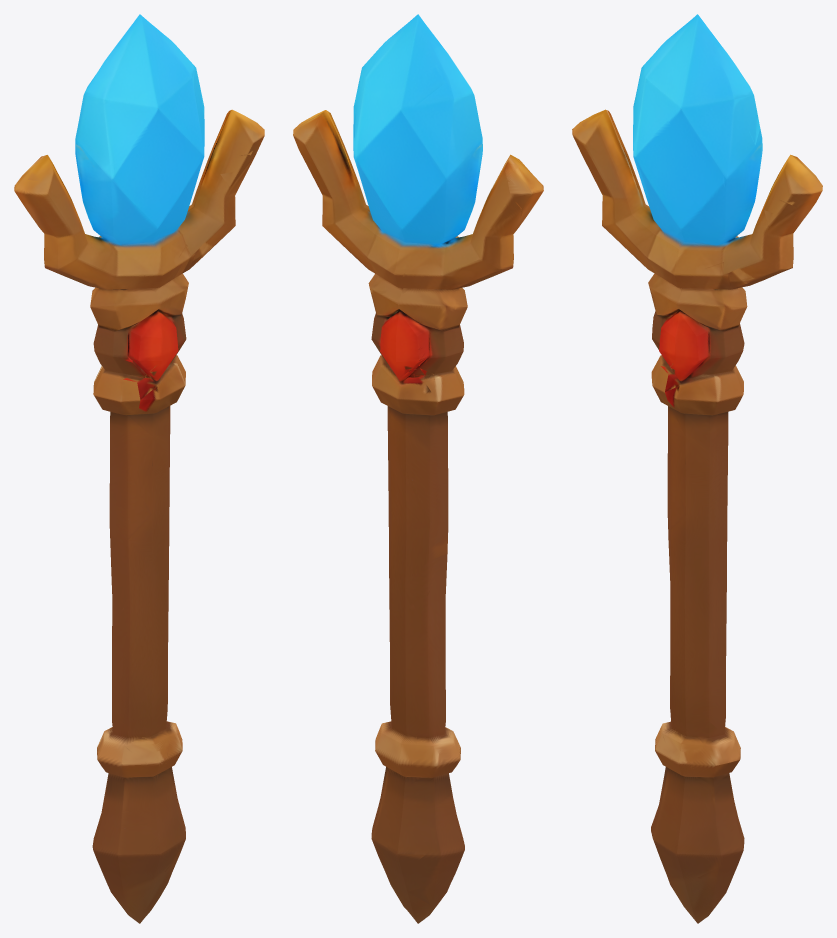
File: weapon_staff.fbx
3 renders of one model, left to right at view 1: azimuth 30°, elevation 25°; view 2: azimuth 150°, elevation 25°; view 3: azimuth 330°, elevation 25°, orthographic.
Visible parts, largest first — view 1: model; view 2: model; view 3: model.
Boxes of the visible parts, x1,y1,x2,y2 form: model: (14, 14, 264, 923); model: (293, 14, 543, 923); model: (572, 14, 822, 923).
Bounding box in the file's own units: 49.89 × 173 × 16.27.
